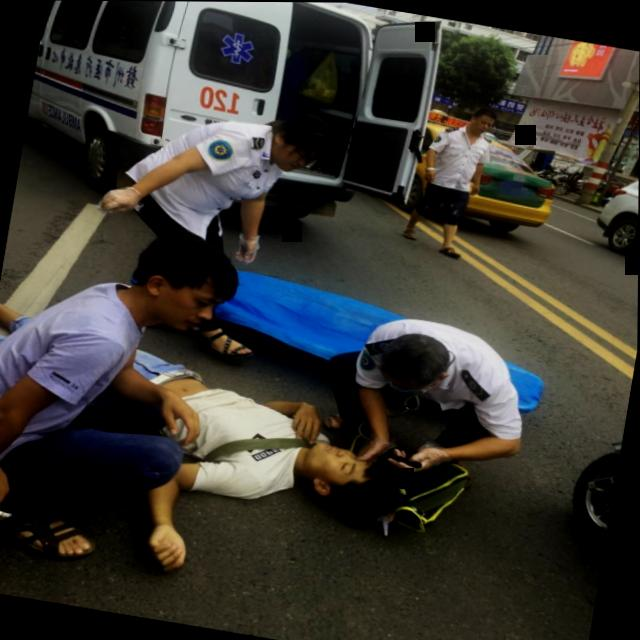Fall-Detected: (99, 329, 424, 580)
